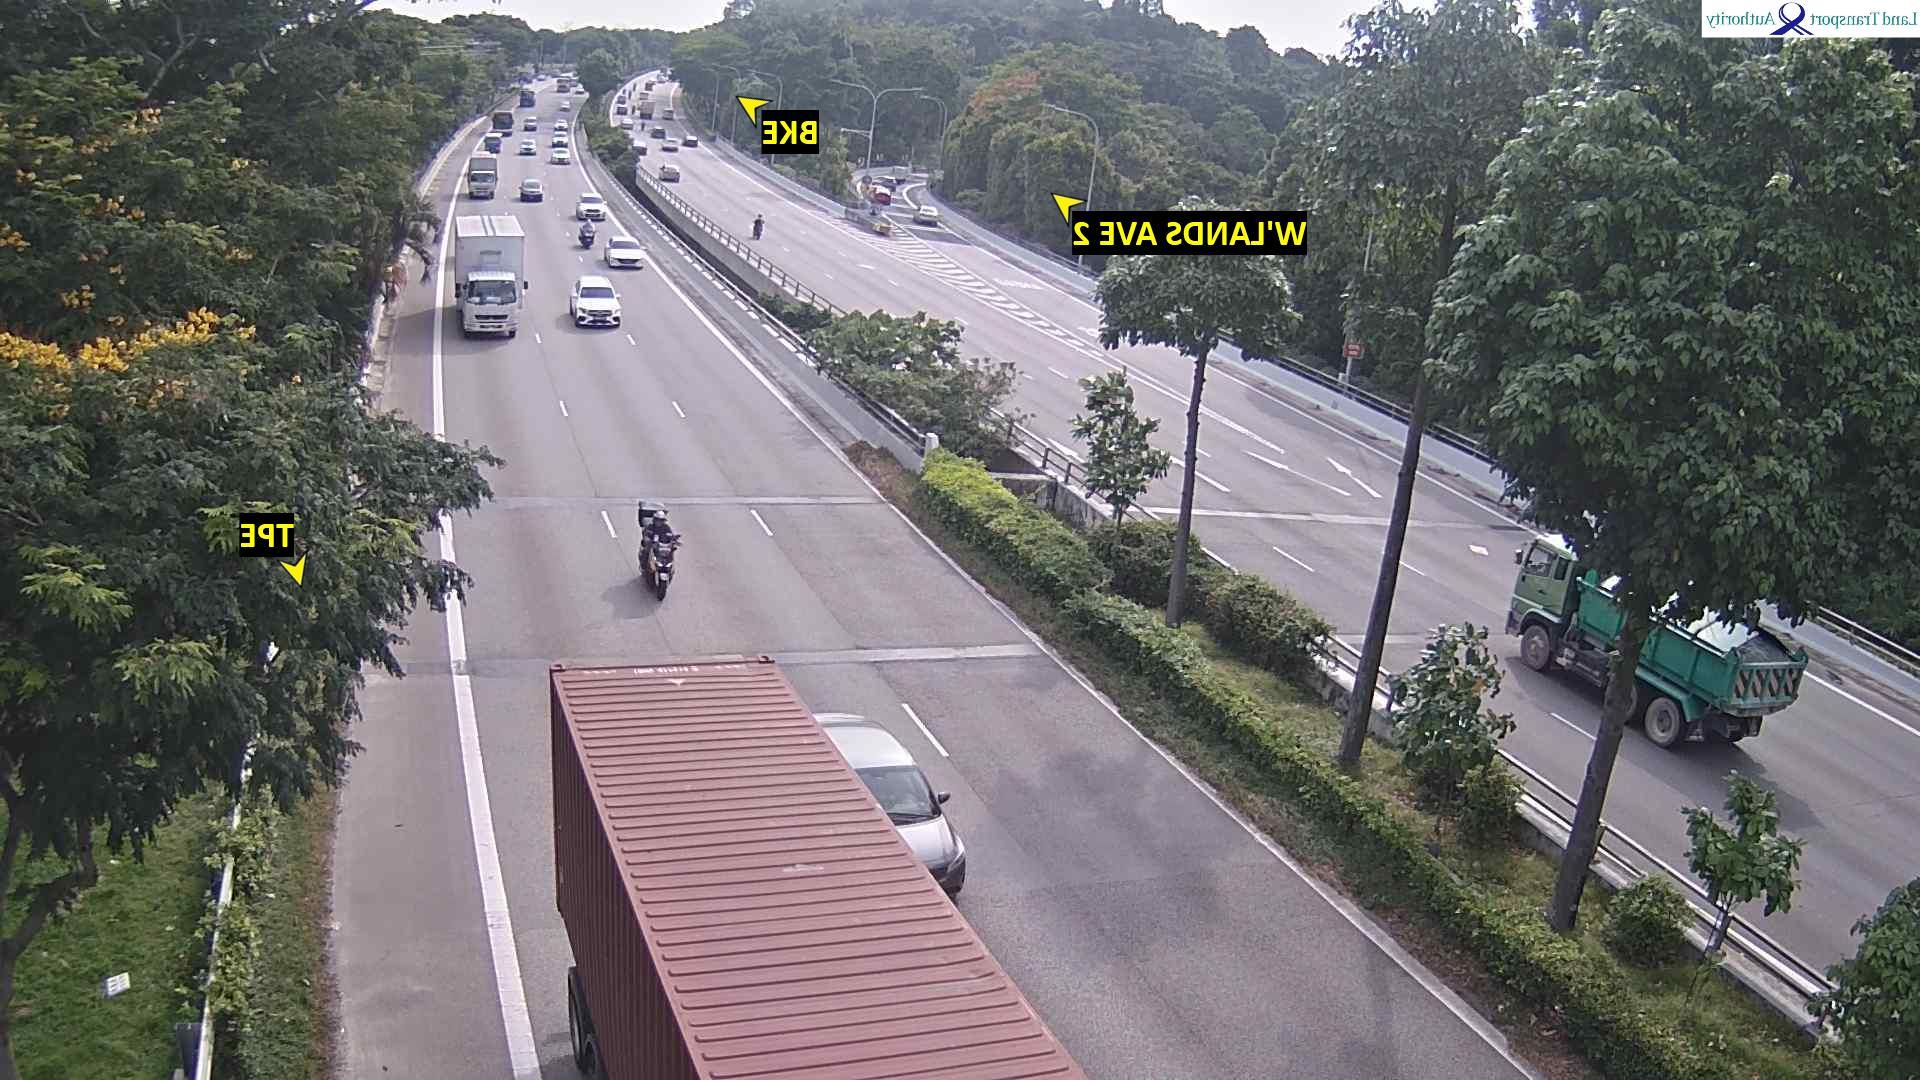cars: (814, 711, 968, 899), (570, 274, 624, 327), (605, 233, 647, 268), (578, 191, 608, 220), (868, 179, 895, 204), (914, 203, 942, 225), (492, 109, 516, 135), (520, 178, 545, 200), (553, 117, 571, 144), (550, 145, 572, 164), (636, 98, 655, 117), (659, 164, 680, 182), (484, 132, 502, 152), (632, 135, 649, 156), (520, 137, 538, 154), (520, 88, 535, 107), (651, 124, 667, 138), (683, 133, 700, 146), (663, 138, 680, 152), (525, 115, 538, 131), (572, 83, 588, 95), (560, 98, 574, 111), (663, 105, 676, 119)
motorcycle: (637, 498, 683, 599), (748, 211, 767, 239), (579, 218, 597, 247)
trucks: (549, 651, 1089, 1077), (1505, 530, 1811, 750), (454, 212, 530, 338), (467, 154, 498, 198)
